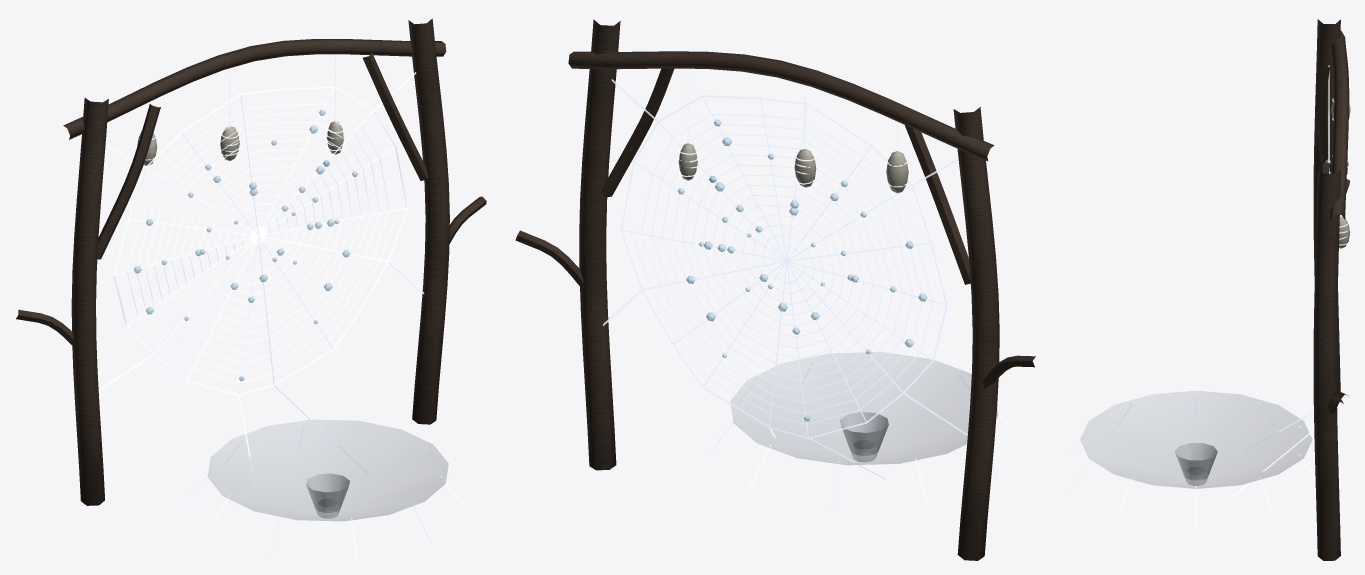
File: gang_tisseuses_3.glb
The picture shows the model from 3 angles, left to right: view 1: azimuth 30°, elevation 25°; view 2: azimuth 150°, elevation 25°; view 3: azimuth 270°, elevation 25°; orthographic projection. The views are drawn at different scales.
Visible parts, largest first — view 1: habitat_tisseuses, group_7; view 2: habitat_tisseuses, group_7; view 3: group_7, habitat_tisseuses.
Boxes of the visible parts, x1,y1,x2,y2 form: habitat_tisseuses: (16,18,486,560); group_7: (207,419,448,521); habitat_tisseuses: (515,19,1035,560); group_7: (730,352,998,465); group_7: (1080,390,1312,488); habitat_tisseuses: (1069,19,1350,560).
Bounding box in the file's own units: 62.49 × 52.18 × 33.82.
7 materials, 3 textured.
